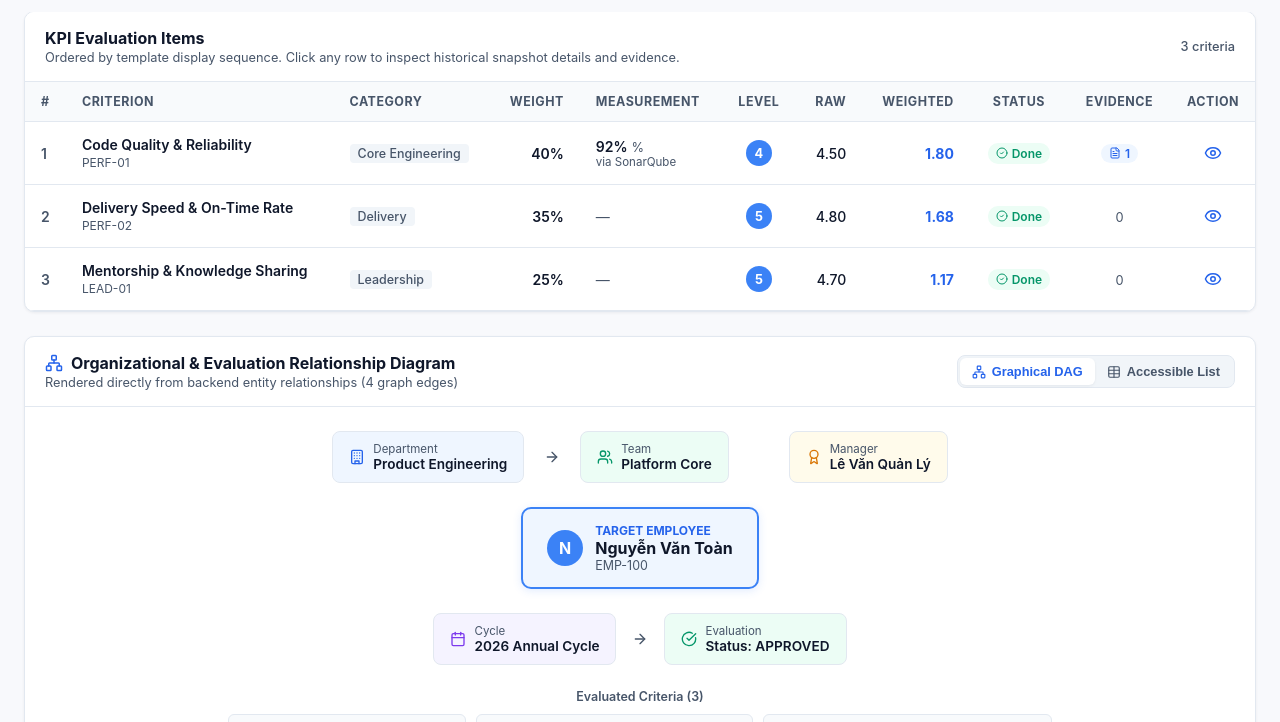
KpiSummaryDashboardPage › TC-FE-05: Renders KPI relationship diagram with toggleable accessible list view
(page scrolled)
Expected: the heading "Organizational & Evaluation Relationship Diagram" is shown, [45, 353, 458, 373]
Click the button "Accessible List": coordinates (1163, 372) [1095, 358, 1232, 385]
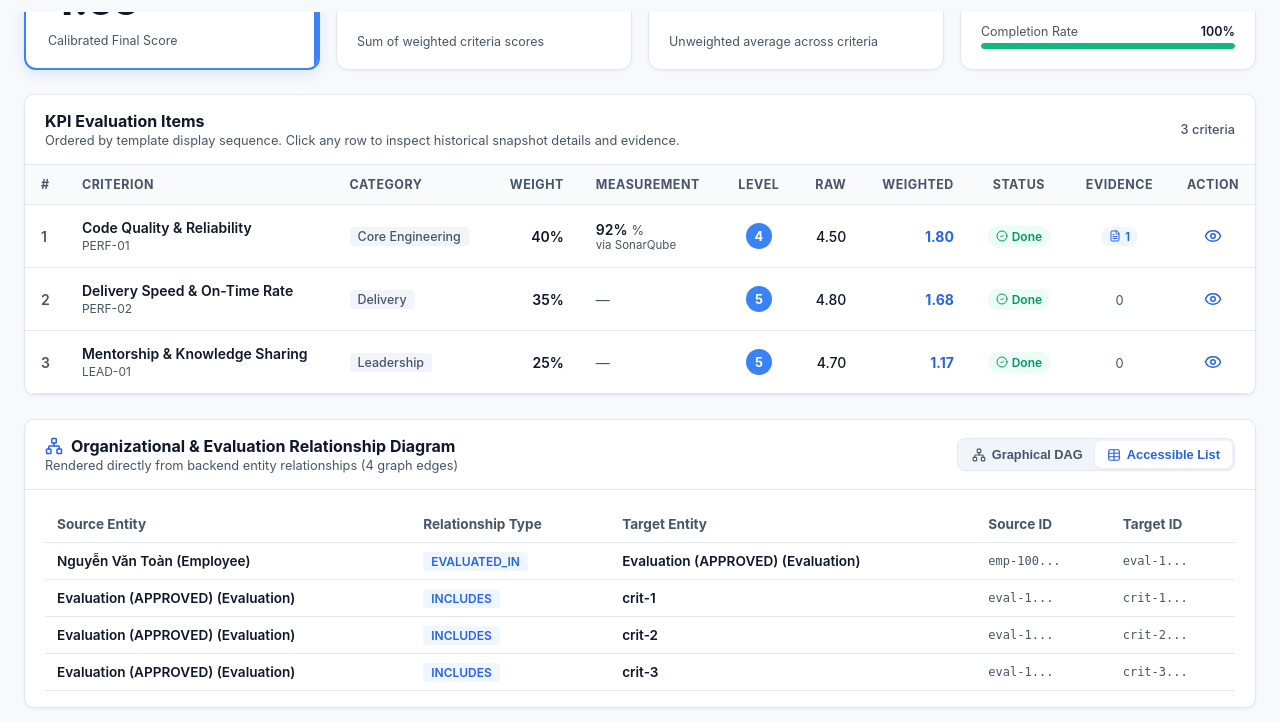
Result: the text "EVALUATED_IN" is shown at [423, 552, 528, 571]
Result: the 1st text "INCLUDES" is shown at [423, 589, 500, 608]
